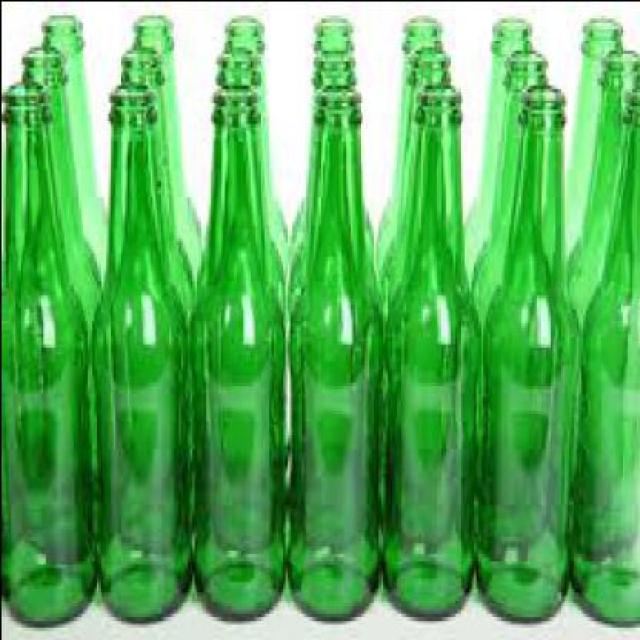glass: (477, 77, 581, 618), (385, 80, 483, 615), (289, 80, 385, 615), (3, 79, 97, 623), (96, 82, 190, 620), (190, 80, 284, 615), (572, 69, 638, 623), (286, 49, 377, 316), (22, 41, 103, 322), (468, 46, 549, 323), (118, 43, 194, 312), (212, 42, 285, 318), (291, 10, 375, 242), (463, 14, 534, 283), (570, 44, 638, 324), (385, 42, 452, 316), (44, 11, 110, 284), (135, 11, 203, 274), (226, 11, 289, 269), (377, 11, 440, 269), (563, 14, 625, 263)
